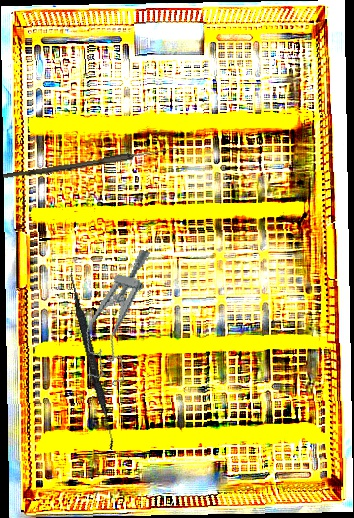Spatula Surgical: (63, 271, 121, 451)
Speculum: (74, 241, 160, 388)
Surgical Spoon: (2, 143, 178, 183)
